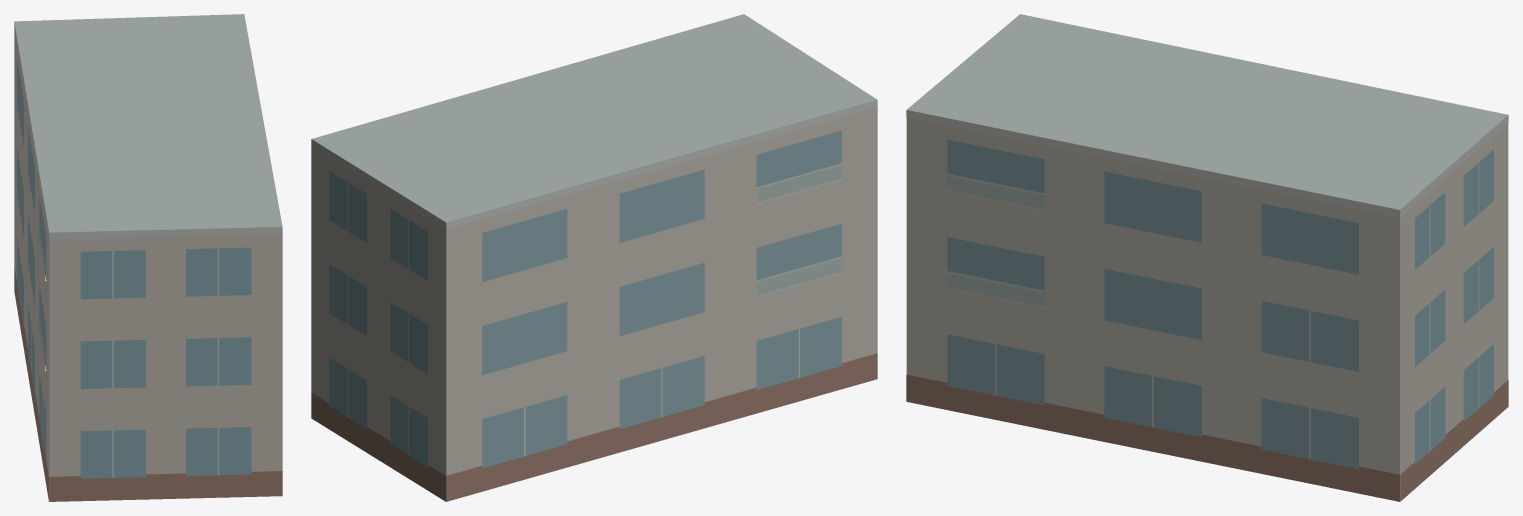
Rendered from survey-upis-32537720.glb.
3 views of the same model, side by side, from view 1: azimuth 30°, elevation 25°; view 2: azimuth 150°, elevation 25°; view 3: azimuth 270°, elevation 25° (orthographic). The views are drawn at different scales.
Parts seen in each view (by area): view 1: survey-upis-32537720.tmp; view 2: survey-upis-32537720.tmp; view 3: survey-upis-32537720.tmp.
Part boxes in pixels (box(x1,y1,x2,y2)): survey-upis-32537720.tmp: box(14, 14, 282, 501); survey-upis-32537720.tmp: box(311, 14, 877, 501); survey-upis-32537720.tmp: box(906, 14, 1508, 501).
Bounding box in the file's own units: 13.18 × 9.15 × 17.11.
